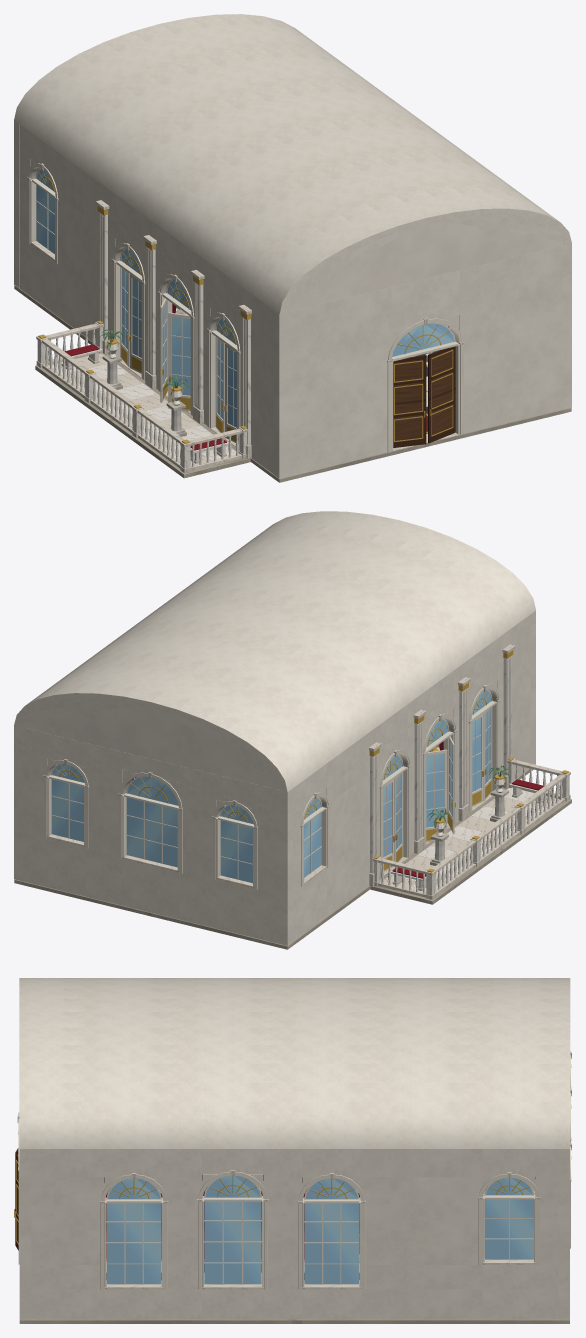
Rendered from rofan_imperial_palace_hall_balcony-mobile.glb.
3 views of the same model, one above another, from view 1: azimuth 30°, elevation 25°; view 2: azimuth 150°, elevation 25°; view 3: azimuth 270°, elevation 25° (orthographic). The views are drawn at different scales.
Visible parts, largest first — view 1: BG_Cutaway_Front, BG_Ceiling, BG_Shell_Fixed, BG_Furnishings; view 2: BG_Ceiling, BG_Shell_Fixed, BG_Cutaway_Front, BG_Furnishings; view 3: BG_Shell_Fixed, BG_Ceiling, BG_Cutaway_Front.
Boxes of the visible parts, left/top/right/bottom form: BG_Cutaway_Front: left=20, top=124, right=571, bottom=478; BG_Ceiling: left=14, top=14, right=571, bottom=314; BG_Shell_Fixed: left=14, top=120, right=571, bottom=482; BG_Furnishings: left=61, top=308, right=452, bottom=463; BG_Ceiling: left=14, top=511, right=535, bottom=791; BG_Shell_Fixed: left=14, top=699, right=571, bottom=949; BG_Cutaway_Front: left=293, top=610, right=535, bottom=941; BG_Furnishings: left=135, top=747, right=546, bottom=890; BG_Shell_Fixed: left=19, top=1051, right=571, bottom=1323; BG_Ceiling: left=19, top=978, right=570, bottom=1148; BG_Cutaway_Front: left=14, top=1112, right=31, bottom=1319.
Bounding box in the file's own units: 14 × 8.5 × 18.07.
2 materials, 2 textured.
